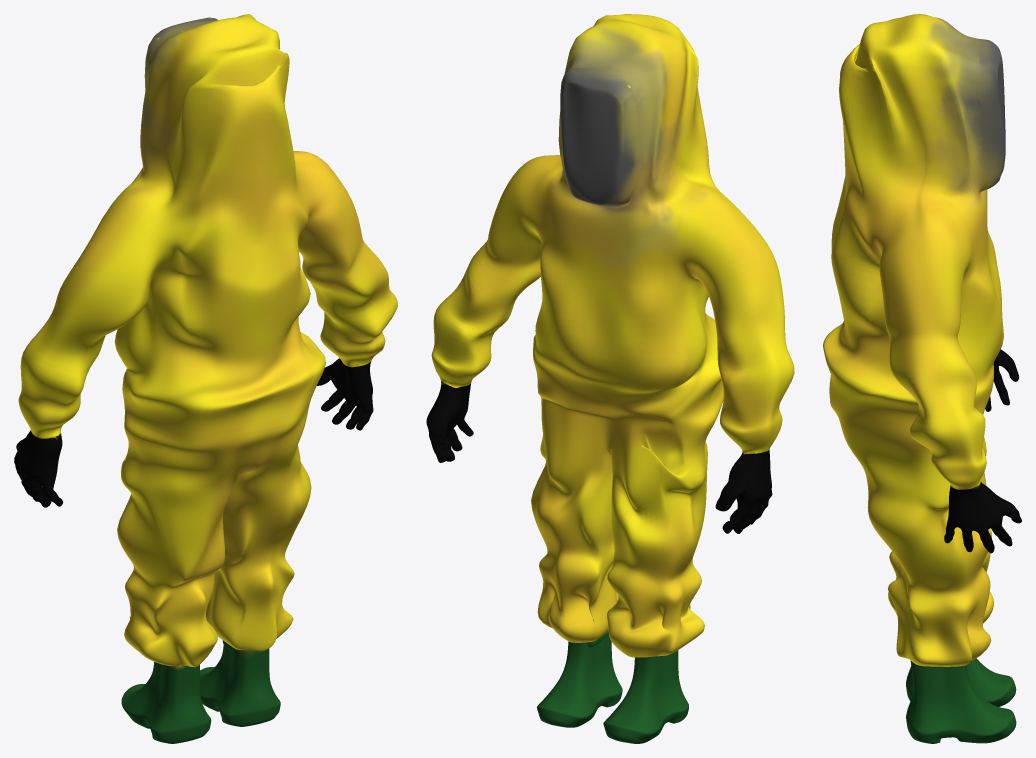
Rendered from PlayerStationary.fbx.
The picture shows the model from 3 angles, left to right: view 1: azimuth 30°, elevation 25°; view 2: azimuth 150°, elevation 25°; view 3: azimuth 270°, elevation 25°; orthographic projection. The views are drawn at different scales.
Parts seen in each view (by area): view 1: hazmatApose; view 2: hazmatApose; view 3: hazmatApose.
Boxes of the visible parts, x1=… form: hazmatApose: x1=14, y1=14, x2=397, y2=743; hazmatApose: x1=426, y1=14, x2=794, y2=743; hazmatApose: x1=823, y1=14, x2=1021, y2=743.
Bounding box in the file's own units: 8.99 × 16.78 × 4.33.
1 material, 1 textured.
